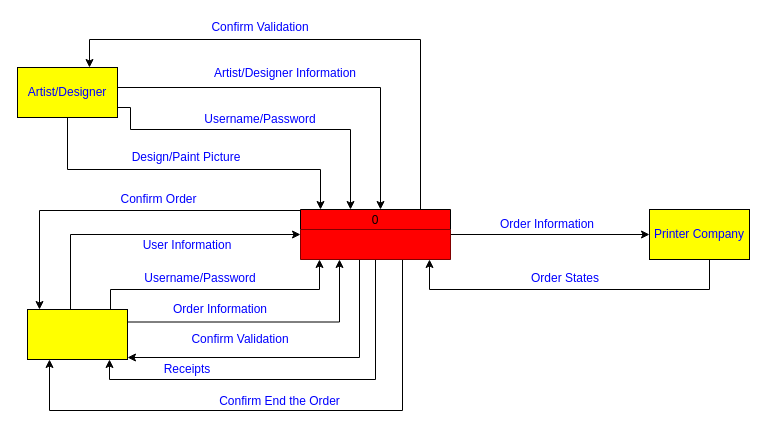
This 767x436 diagram has some shape labels left out. Each missing label, with the centre of its shape:
Design Platform: (x=375, y=244)
User: (x=77, y=334)
